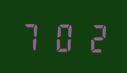seven: (18, 19, 46, 52)
two: (77, 20, 105, 53)
zero: (48, 19, 76, 53)
